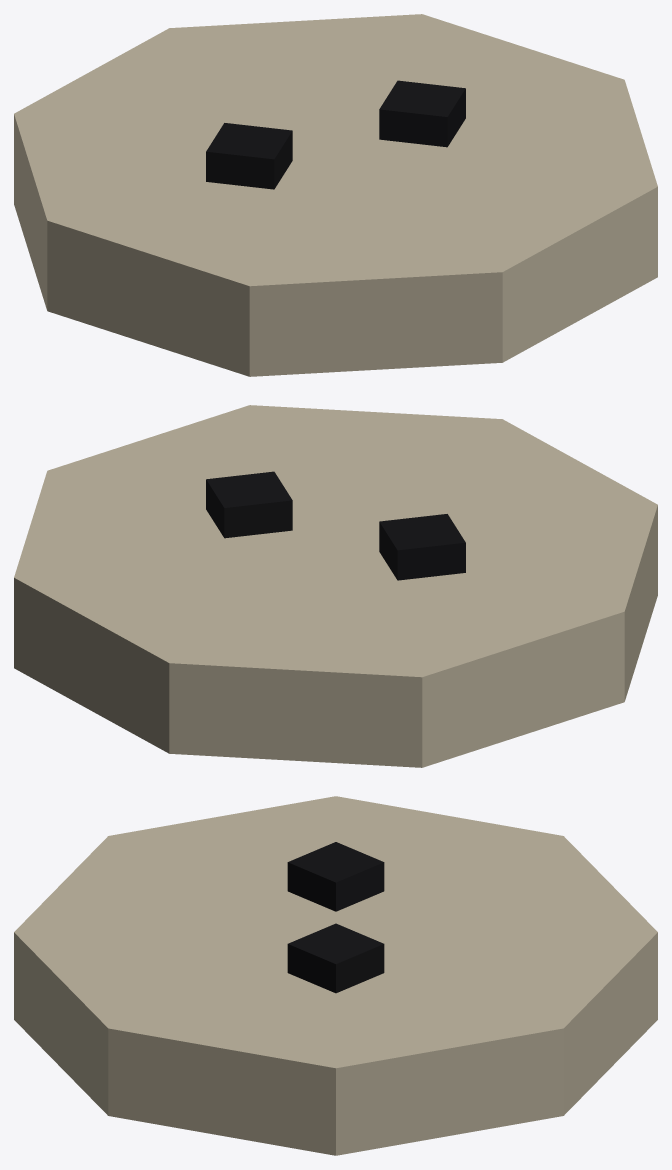
Rendered from village_lost_button.glb.
The picture shows the model from 3 angles, top to bottom: view 1: azimuth 30°, elevation 25°; view 2: azimuth 150°, elevation 25°; view 3: azimuth 270°, elevation 25°; orthographic projection. The views are drawn at different scales.
Parts seen in each view (by area): view 1: village_lost_button; view 2: village_lost_button; view 3: village_lost_button.
Part boxes in pixels (x1,y1,x2,y2): village_lost_button: (14, 14, 657, 376); village_lost_button: (14, 405, 657, 767); village_lost_button: (14, 796, 657, 1155).
Bounding box in the file's own units: 0.04 × 0.008 × 0.04.
